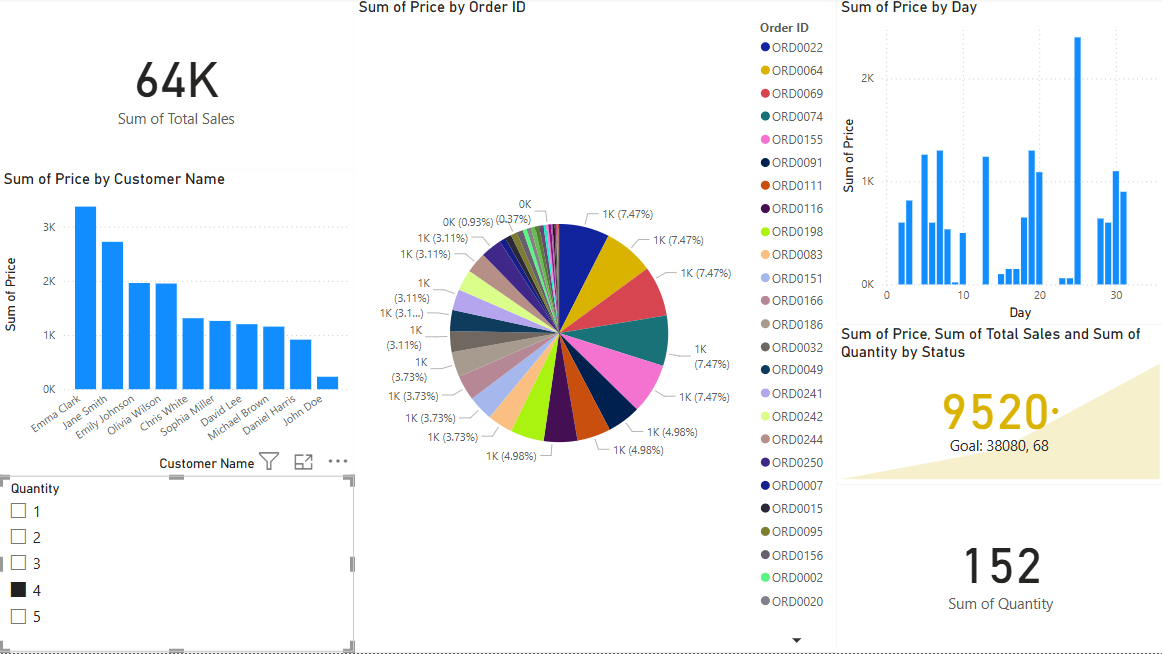

What the dashboard file says about the page in this screenshot:
{"tool":"powerbi","page":{"name":"Page 1","canvas":[1280,720],"ordinal":0},"visuals":[{"type":"columnChart","fields":{"Category":["sales csv.Customer Name"],"Y":["Sum(sales csv.Price)"]},"box":[0,189.4,389.7,336.2],"z":0},{"type":"card","fields":{"Values":["Sum(sales csv.Total Sales)"]},"box":[0,0,389.7,189.4],"z":1000},{"type":"card","fields":{"Values":["Sum(sales csv.Quantity)"]},"box":[919.4,535.2,360.9,185.2],"z":2000},{"type":"clusteredColumnChart","fields":{"Y":["Sum(sales csv.Price)"],"Category":["sales csv.Date.Variation.Date Hierarchy.Day"]},"box":[919.4,0,360.9,359.5],"z":3000},{"type":"pieChart","fields":{"Category":["sales csv.Order ID"],"Y":["Sum(sales csv.Price)"]},"box":[389.7,0,529.7,719],"z":4000},{"type":"slicer","fields":{"Values":["sales csv.Quantity"]},"box":[0,525.6,389.7,193.5],"z":4001},{"type":"kpi","fields":{"Indicator":["Sum(sales csv.Price)"],"Goal":["Sum(sales csv.Total Sales)","Sum(sales csv.Quantity)"],"TrendLine":["sales csv.Status"]},"box":[919.4,359.5,360.9,175.6],"z":4002}]}

Visuals, with their boxes in screenshot pixels (x1, y1, x2, y2), scaled from the page's 1280x720 canvas onto the 1162x654 screenshot:
columnChart - sales csv.Customer Name x Sum(sales csv.Price): bbox=[0, 172, 354, 477]
card - Sum(sales csv.Total Sales): bbox=[0, 0, 354, 172]
card - Sum(sales csv.Quantity): bbox=[835, 486, 1161, 653]
clusteredColumnChart - Sum(sales csv.Price) x sales csv.Date.Variation.Date Hierarchy.Day: bbox=[835, 0, 1161, 327]
pieChart - sales csv.Order ID x Sum(sales csv.Price): bbox=[354, 0, 835, 653]
slicer - sales csv.Quantity: bbox=[0, 477, 354, 653]
kpi - Sum(sales csv.Price) x Sum(sales csv.Total Sales): bbox=[835, 327, 1161, 486]
